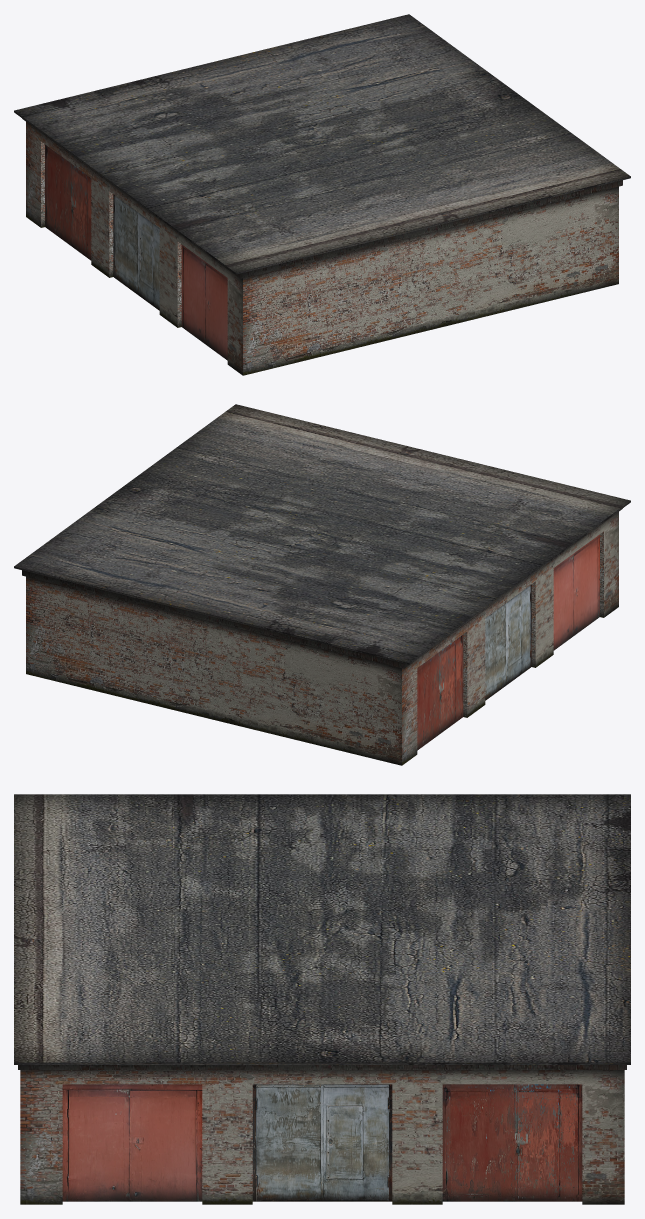
File: d_garage_3.FBX
3 renders of one model, top to bottom at view 1: azimuth 30°, elevation 25°; view 2: azimuth 150°, elevation 25°; view 3: azimuth 270°, elevation 25°, orthographic. The views are drawn at different scales.
Parts seen in each view (by area): view 1: d_garage_3; view 2: d_garage_3; view 3: d_garage_3.
Part boxes in pixels (left/top/right/bottom): d_garage_3: left=14, top=14, right=630, bottom=375; d_garage_3: left=14, top=404, right=630, bottom=765; d_garage_3: left=14, top=794, right=630, bottom=1204.
Bounding box in the file's own units: 10.02 × 9.74 × 2.59.
